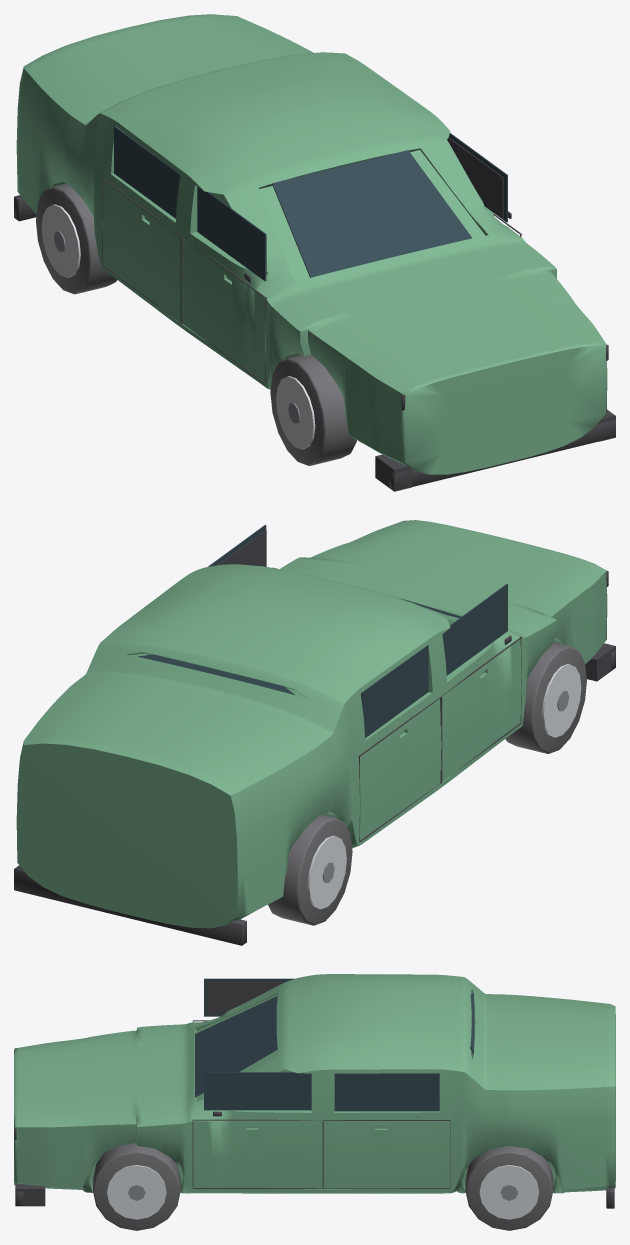
File: Hatch_Compact_23.fbx
3 renders of one model, top to bottom at view 1: azimuth 30°, elevation 25°; view 2: azimuth 150°, elevation 25°; view 3: azimuth 270°, elevation 25°, orthographic. The views are drawn at different scales.
Parts seen in each view (by area): view 1: LOD0; view 2: LOD0; view 3: LOD0.
Boxes of the visible parts, box(x1,y1,x2,y2) form: LOD0: box(14, 14, 615, 491); LOD0: box(14, 520, 615, 945); LOD0: box(14, 974, 615, 1230).
Size of what is drawn, in the model's own units: 182 by 141 by 442.
